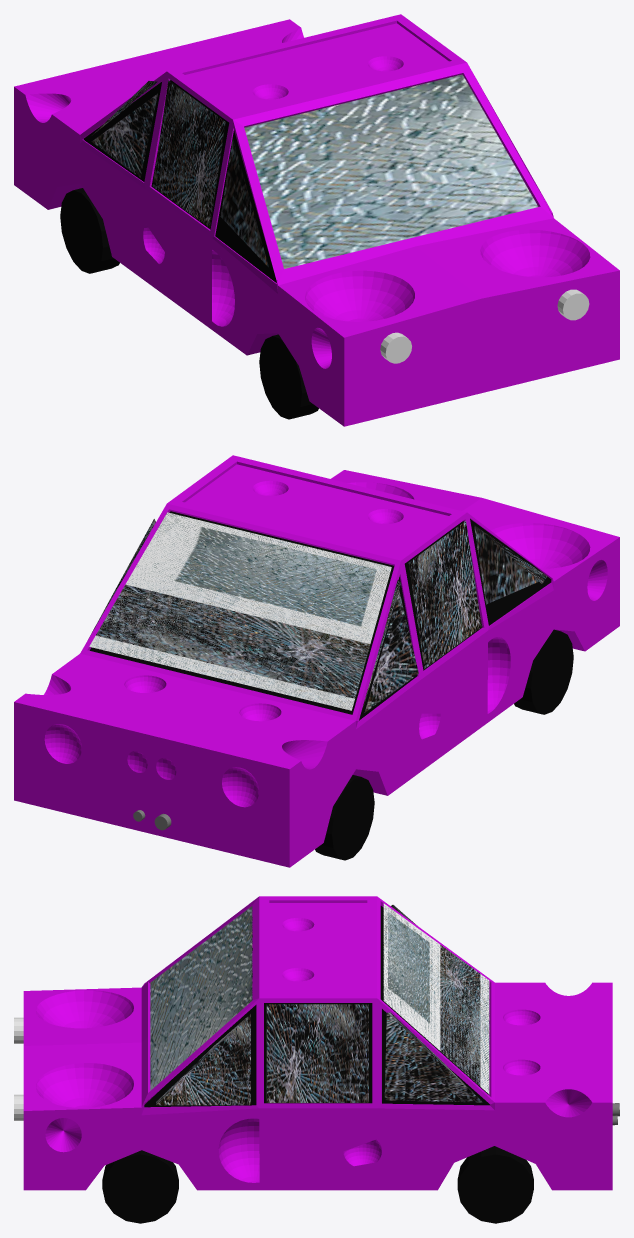
The model's file is CarPurpleStage3.fbx.
3 views of the same model, one above another, from view 1: azimuth 30°, elevation 25°; view 2: azimuth 150°, elevation 25°; view 3: azimuth 270°, elevation 25° (orthographic). The views are drawn at different scales.
Parts seen in each view (by area): view 1: Car, Vooruit kapot, wheels, Headlights; view 2: Car, Vooruit kapot, wheels; view 3: Car, Vooruit kapot, wheels, Headlights.
Boxes of the visible parts, x1,y1,x2,y2 form: Car: [14, 14, 619, 426]; Vooruit kapot: [90, 74, 538, 268]; wheels: [60, 188, 318, 419]; Headlights: [380, 289, 589, 363]; Car: [14, 455, 619, 867]; Vooruit kapot: [89, 512, 547, 712]; wheels: [315, 629, 573, 860]; Car: [23, 896, 612, 1190]; Vooruit kapot: [150, 903, 489, 1105]; wheels: [102, 1146, 533, 1223]; Headlights: [14, 1017, 23, 1120].
Bounding box in the file's own units: 502 × 415 × 1049.
Materials: 13 (8 with a texture image).
